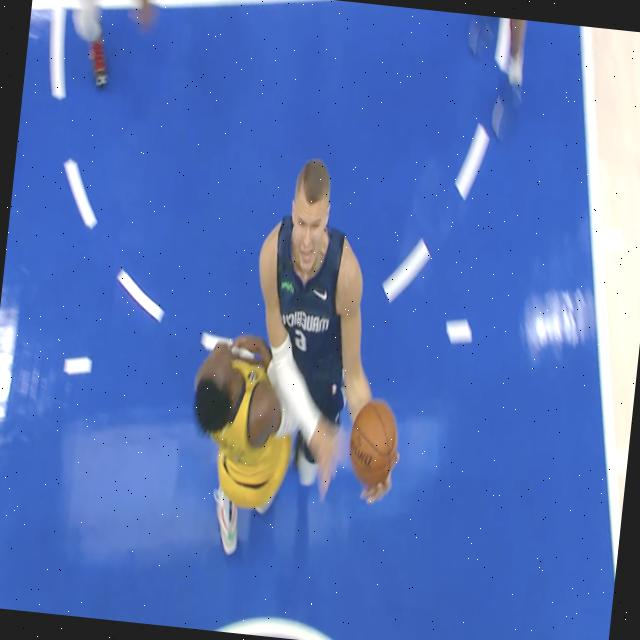Foul: (182, 128, 424, 590)
